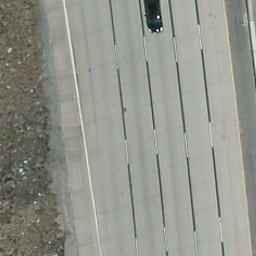car: (143, 0, 164, 33)
